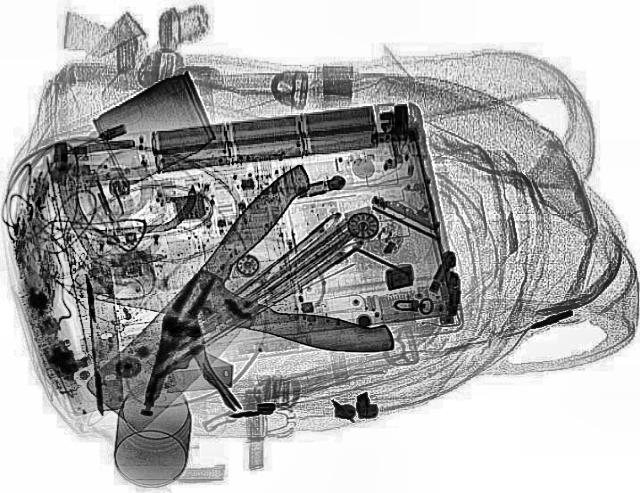Knife: (64, 161, 370, 432), (65, 218, 417, 360)
